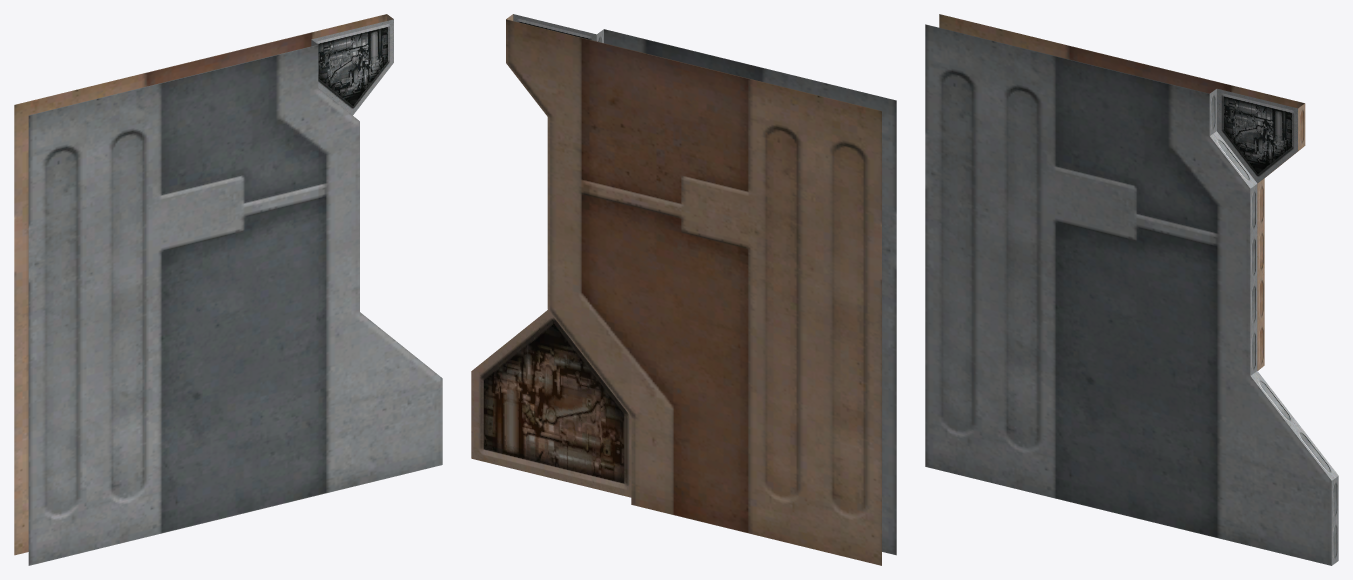
File: door_nboo_emp_s04.fbx
3 views of the same model, side by side, from view 1: azimuth 30°, elevation 25°; view 2: azimuth 150°, elevation 25°; view 3: azimuth 330°, elevation 25° (orthographic). The views are drawn at different scales.
Parts seen in each view (by area): view 1: mesh_node; view 2: mesh_node; view 3: mesh_node.
Part boxes in pixels (x1,y1,x2,y2): mesh_node: (14,14,442,565); mesh_node: (471,14,896,565); mesh_node: (925,14,1338,565).
Bounding box in the file's own units: 5 × 5.2 × 0.3.
